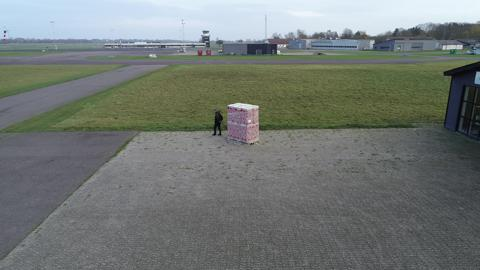RockwoolPallet: (227, 102, 261, 145)
